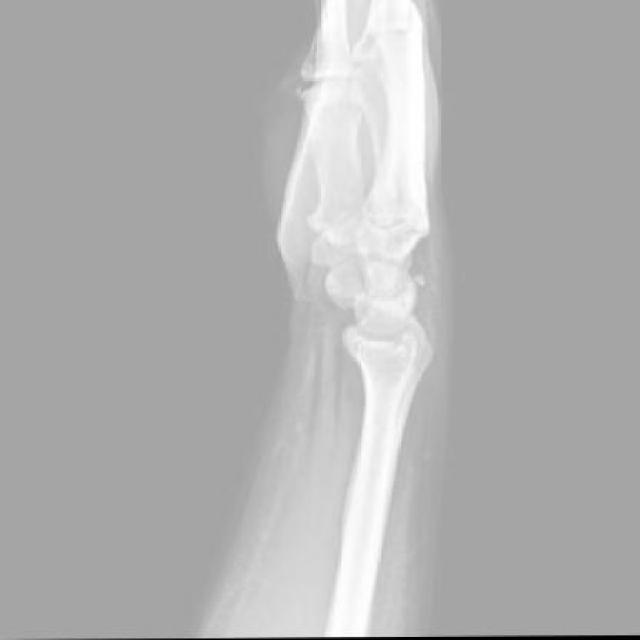Fracture: (412, 269, 429, 291)
